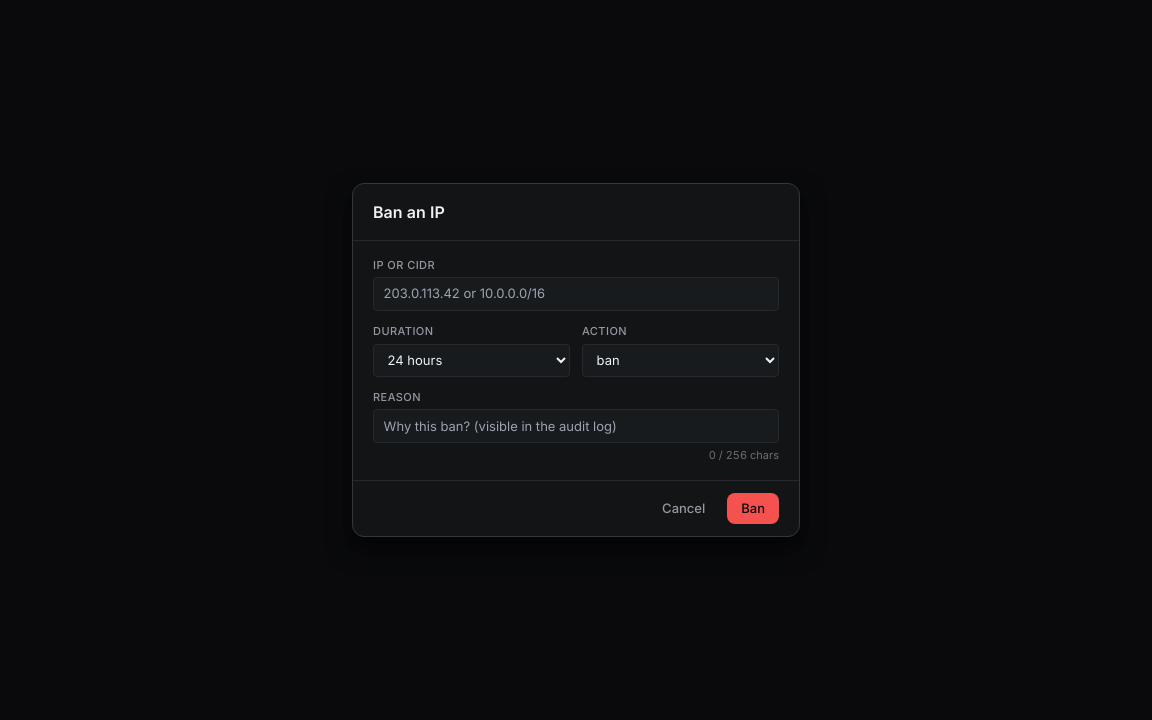
BanIPModal — client validation › shows inline error when custom duration is empty but selected
In the field with test id "ban-input-value": (576, 294) [373,277,779,311], type "203.0.113.42"
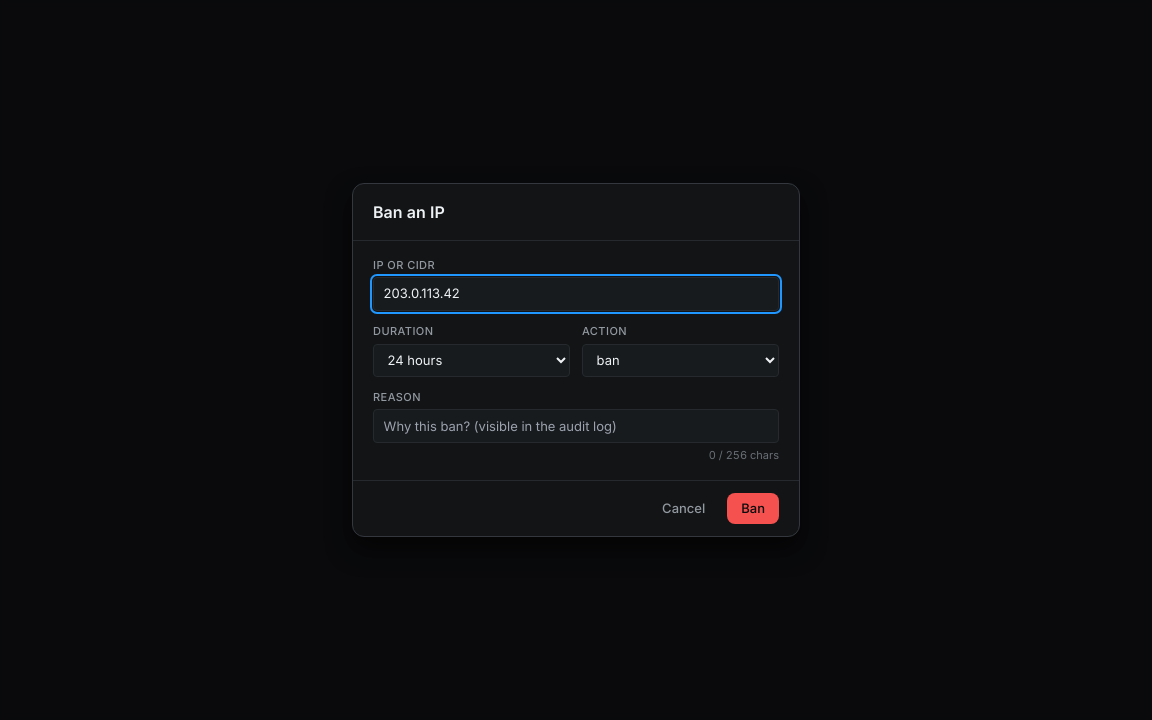
In the field with test id "ban-input-reason": (576, 426) [373,409,779,443], type "r"
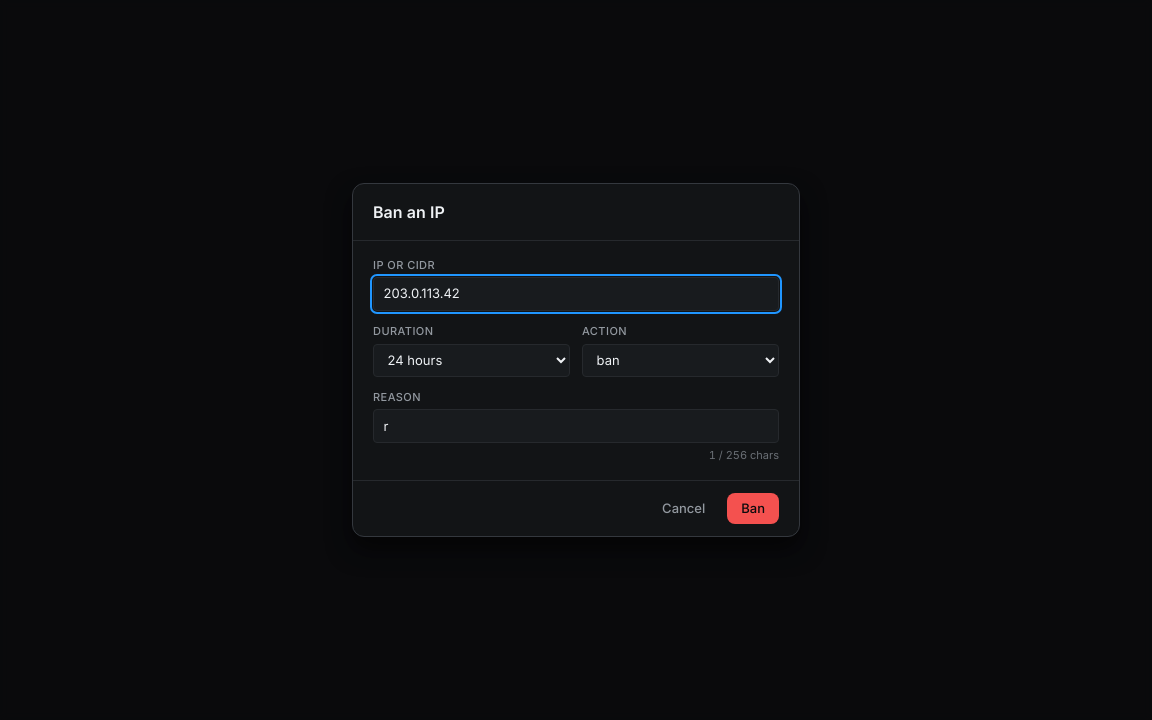
Select "Custom…" in the dropdown with test id "ban-input-duration": (472, 360) [373,344,570,377]
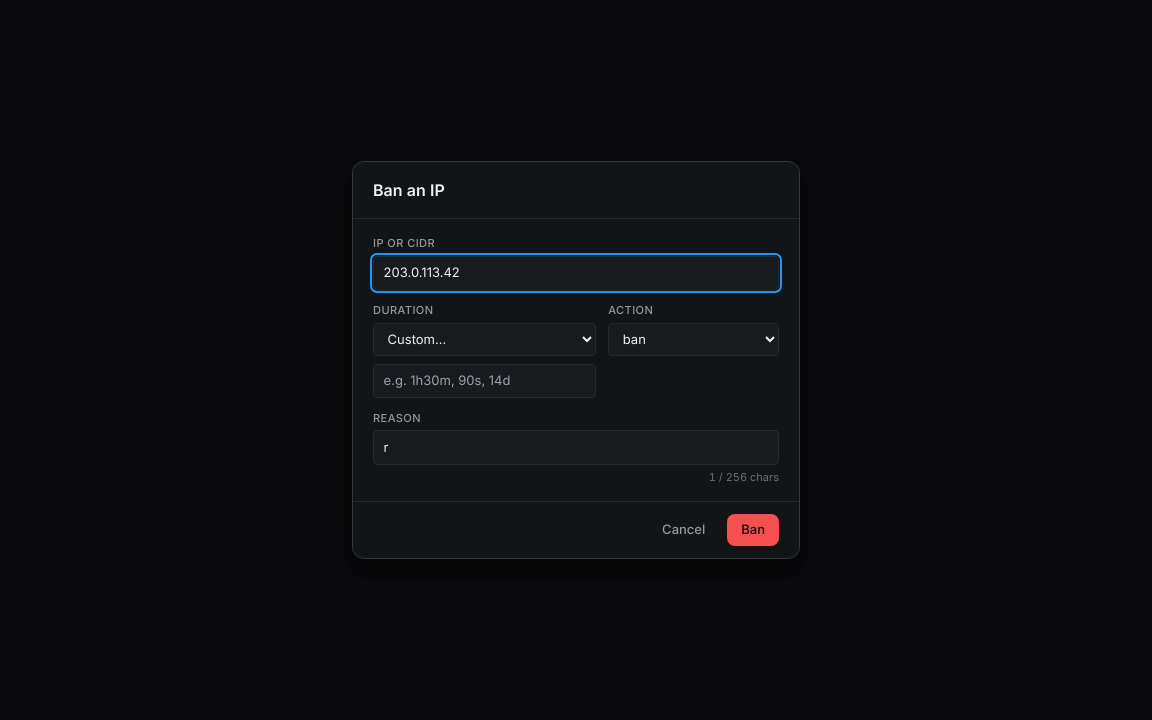
Note: Custom field left empty.
Click the button with test id "ban-submit": (753, 530) [727,514,779,546]
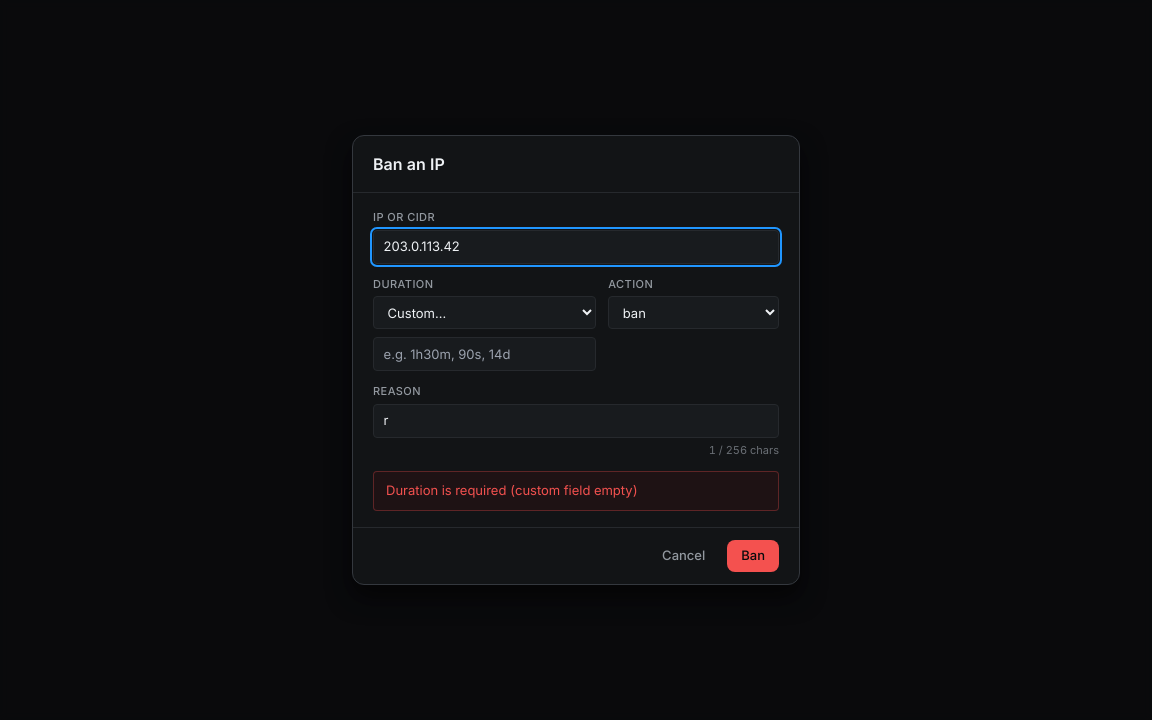
Now the message with test id "ban-error" shows "Duration is required", box [386,482,638,498]
